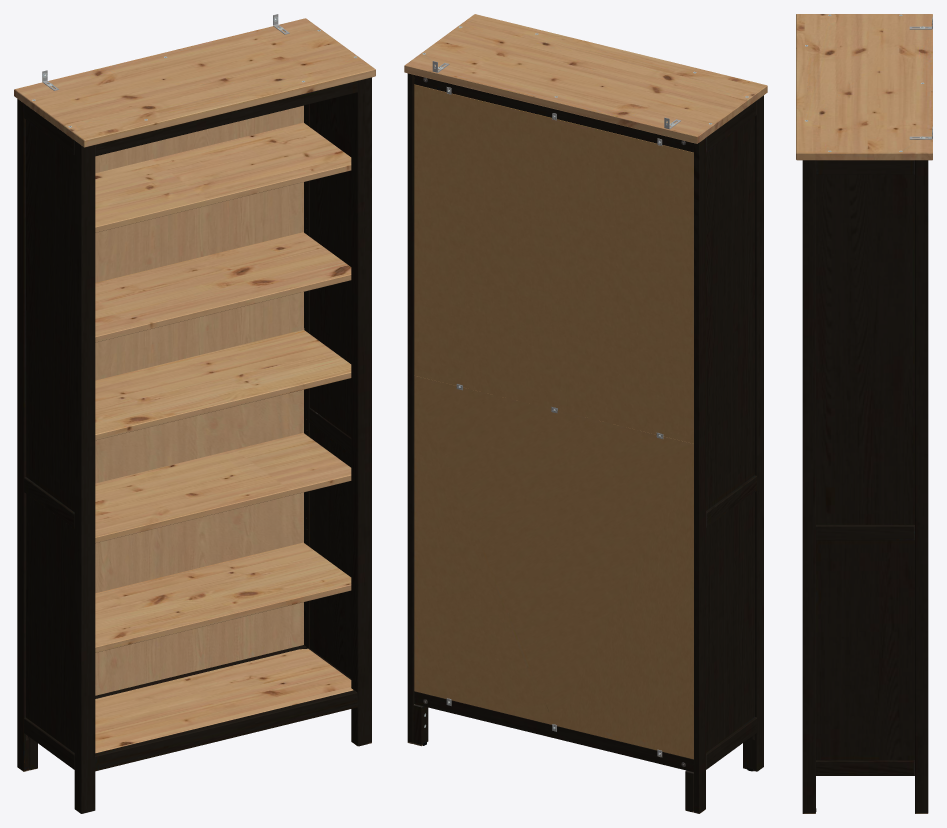
The model's file is HEMNES_20452294.glb.
The picture shows the model from 3 angles, left to right: view 1: azimuth 30°, elevation 25°; view 2: azimuth 150°, elevation 25°; view 3: azimuth 270°, elevation 25°; orthographic projection. The views are drawn at different scales.
Parts seen in each view (by area): view 1: model; view 2: model; view 3: model.
Boxes of the visible parts, x1,y1,x2,y2 form: model: [14, 14, 375, 813]; model: [404, 14, 767, 813]; model: [796, 14, 932, 813].
Size of the model in its own units: 0.891 by 2.01 by 0.3701.
Materials: 1 (1 with a texture image).
